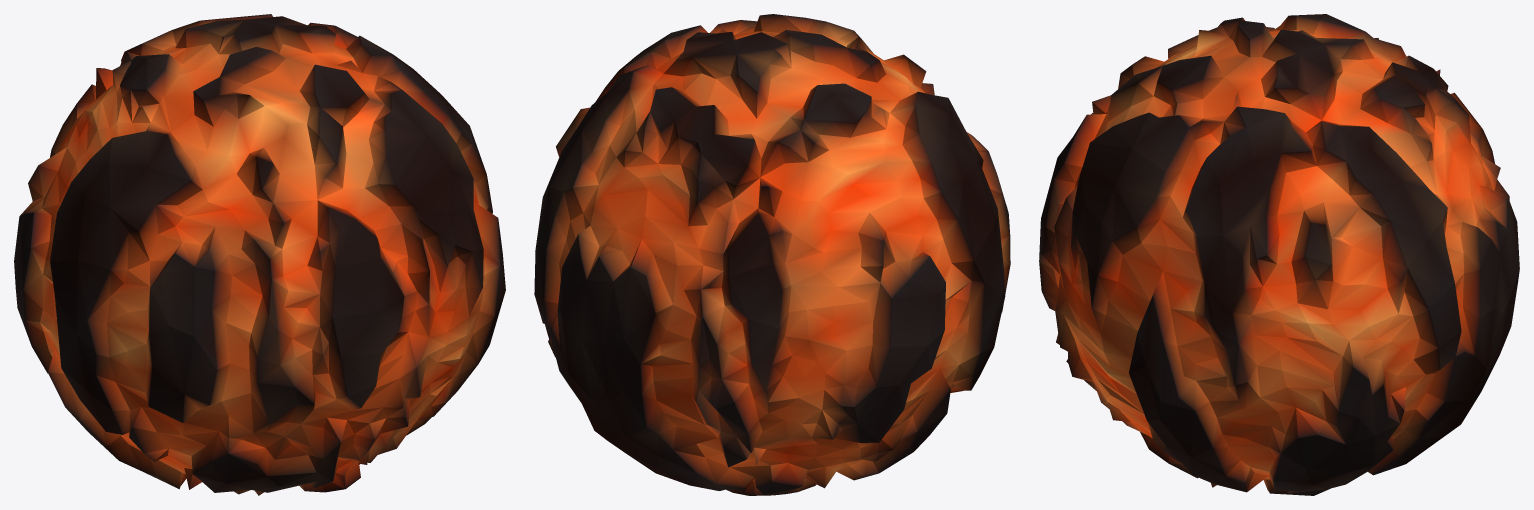
File: barren_9.fbx
3 views of the same model, side by side, from view 1: azimuth 30°, elevation 25°; view 2: azimuth 150°, elevation 25°; view 3: azimuth 270°, elevation 25° (orthographic).
Visible parts, largest first — view 1: filecache1; view 2: filecache1; view 3: filecache1.
Part boxes in pixels (box(x1,y1,x2,y2)): filecache1: box(14, 14, 505, 495); filecache1: box(534, 14, 1010, 495); filecache1: box(1039, 14, 1519, 495).
Bounding box in the file's own units: 2.14 × 2.18 × 2.17.
